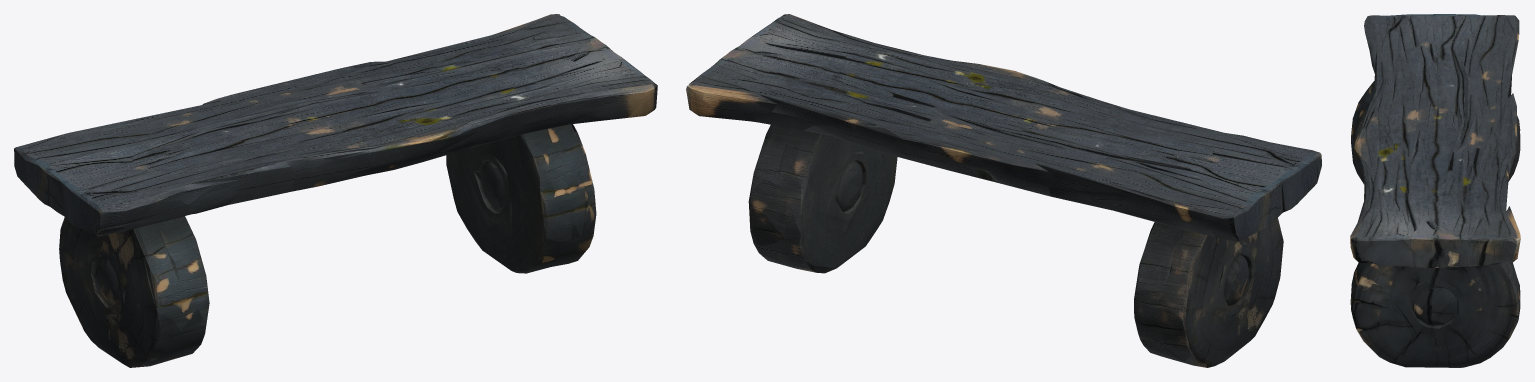
The model's file is log_bench.glb.
3 renders of one model, left to right at view 1: azimuth 30°, elevation 25°; view 2: azimuth 150°, elevation 25°; view 3: azimuth 270°, elevation 25°, orthographic. The views are drawn at different scales.
Bounding box in the file's own units: 1.9 × 0.6169 × 0.6065.
1 material, 1 textured.
